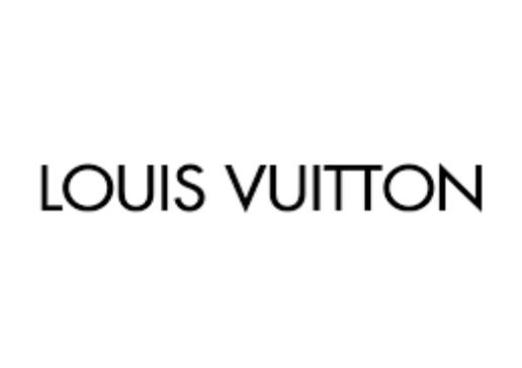LOUIS-VUITTON: (21, 151, 490, 237)
